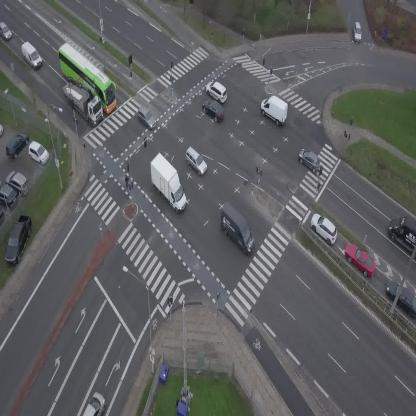bicycle: (123, 174, 132, 192)
bus: (48, 39, 127, 114)
car: (339, 238, 381, 282), (305, 209, 343, 247), (197, 94, 230, 126), (180, 146, 212, 177), (293, 145, 325, 175), (202, 77, 232, 106), (133, 104, 161, 131), (82, 390, 110, 416), (0, 19, 14, 41), (353, 21, 362, 42)
lorry: (143, 148, 190, 217), (55, 74, 111, 129), (210, 201, 264, 256), (255, 91, 293, 128), (388, 216, 416, 258), (16, 40, 46, 69)
